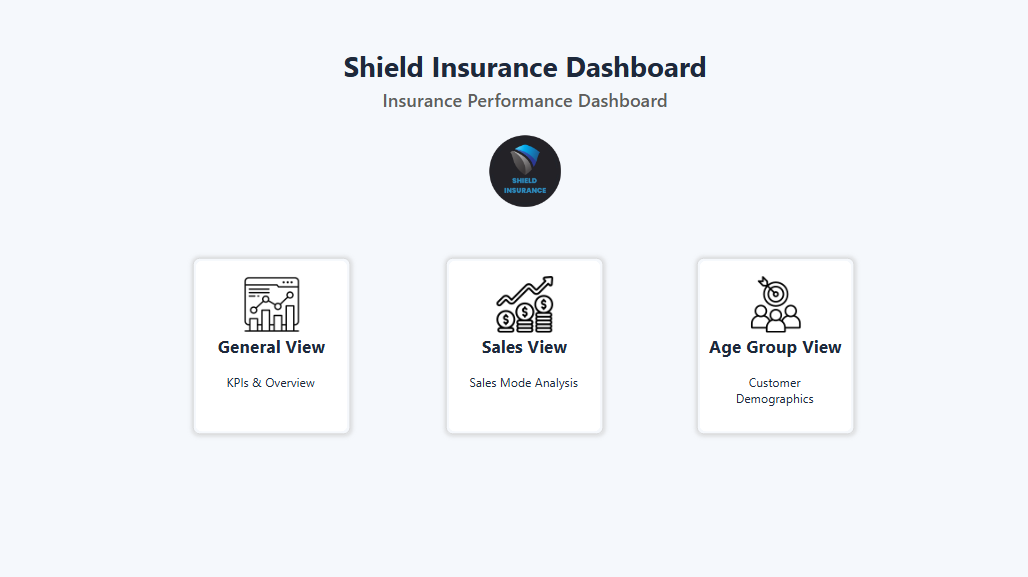

This screenshot's page, from the dashboard's own definition file:
{"tool":"powerbi","page":{"name":"Homepage","canvas":[1600,900],"ordinal":0},"visuals":[{"type":"textbox","title":"Shield Insurance Dashboard","box":[448.1,70.4,714.8,138.9],"z":0},{"type":"shape","box":[296.3,401.9,240.7,270.4],"z":0,"group":"g1"},{"type":"shape","box":[683.3,401.9,240.7,270.4],"z":0,"group":"g2"},{"type":"shape","box":[1068.5,401.9,240.7,270.4],"z":0,"group":"g3"},{"type":"image","box":[744.4,209.3,120.4,120.4],"z":1000},{"type":"image","box":[357.4,429.7,118.5,87],"z":1000,"group":"g1"},{"type":"image","box":[744.4,429.7,118.5,87],"z":1000,"group":"g2"},{"type":"image","box":[1129.6,429.7,118.5,87],"z":1000,"group":"g3"},{"type":"group","id":"g1","title":"Group 1","box":[296.3,401.9,240.7,270.4],"z":2000},{"type":"textbox","title":"KPIs & Overview","box":[316.7,572.3,198.1,61.1],"z":2000,"group":"g1"},{"type":"textbox","title":"Sales Mode Analysis","box":[703.7,572.3,198.1,61.1],"z":2000,"group":"g2"},{"type":"textbox","title":"Customer Demographics","box":[1088.9,572.3,198.1,61.1],"z":2000,"group":"g3"},{"type":"group","id":"g2","title":"Group 2","box":[683.3,401.9,242.6,270.4],"z":3000},{"type":"group","id":"g3","title":"Group 3","box":[1068.5,401.9,240.7,270.4],"z":4000},{"type":"actionButton","box":[307.4,409.3,217,248.1],"z":5000},{"type":"actionButton","box":[692.6,413,218.5,248.1],"z":6000},{"type":"actionButton","box":[1079.6,413,218.5,248.1],"z":7000}]}

Visuals, with their boxes in screenshot pixels (x1, y1, x2, y2), scaled from the page's 1600x900 canvas onto the 1028x577 screenshot:
"Shield Insurance Dashboard" textbox: pyautogui.locateOnScreen(288, 45, 747, 134)
shape: pyautogui.locateOnScreen(190, 258, 345, 431)
shape: pyautogui.locateOnScreen(439, 258, 594, 431)
shape: pyautogui.locateOnScreen(687, 258, 841, 431)
image: pyautogui.locateOnScreen(478, 134, 556, 211)
image: pyautogui.locateOnScreen(230, 275, 306, 331)
image: pyautogui.locateOnScreen(478, 275, 554, 331)
image: pyautogui.locateOnScreen(726, 275, 802, 331)
"Group 1" group: pyautogui.locateOnScreen(190, 258, 345, 431)
"KPIs & Overview" textbox: pyautogui.locateOnScreen(203, 367, 331, 406)
"Sales Mode Analysis" textbox: pyautogui.locateOnScreen(452, 367, 579, 406)
"Customer Demographics" textbox: pyautogui.locateOnScreen(700, 367, 827, 406)
"Group 2" group: pyautogui.locateOnScreen(439, 258, 595, 431)
"Group 3" group: pyautogui.locateOnScreen(687, 258, 841, 431)
actionButton: pyautogui.locateOnScreen(198, 262, 337, 421)
actionButton: pyautogui.locateOnScreen(445, 265, 585, 424)
actionButton: pyautogui.locateOnScreen(694, 265, 834, 424)
